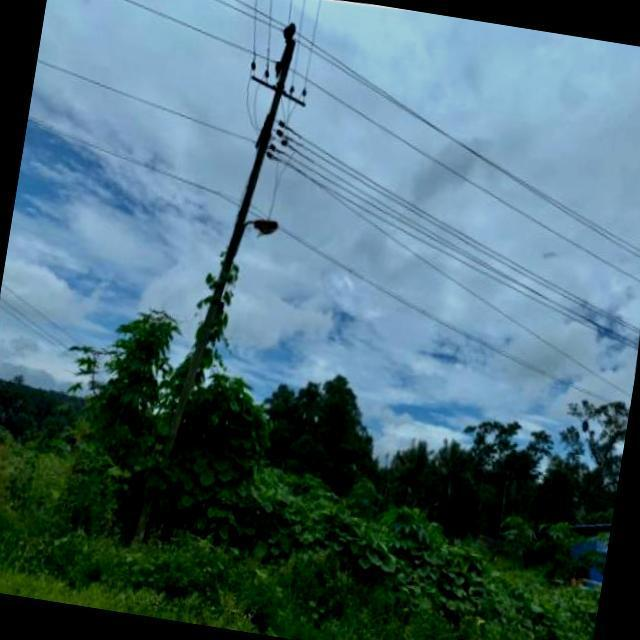critical vegetation: (170, 232, 250, 382)
